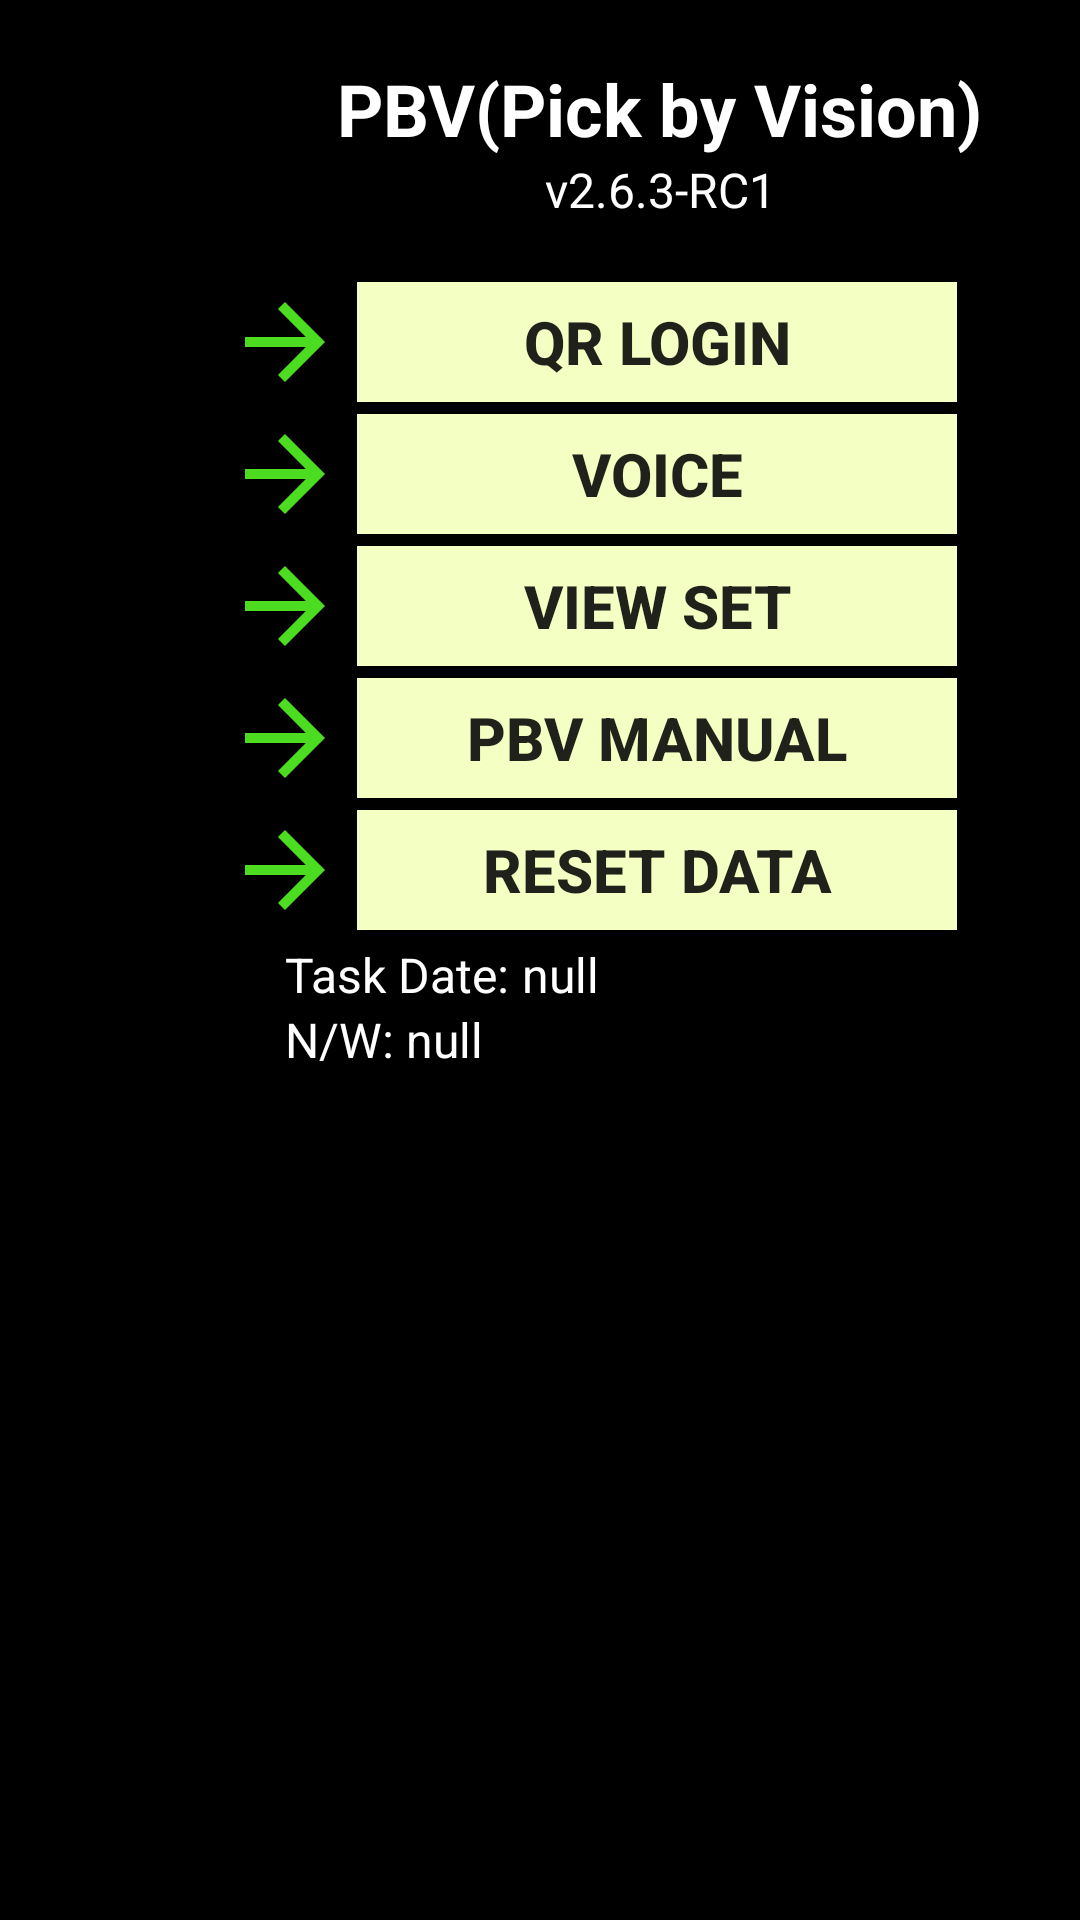

Icons on this 1080px x 1920px Android screen, each with its box as {"left": x1, "top": y1, "right": x2, "bottom": y2}:
arrow forward: {"left": 245, "top": 302, "right": 325, "bottom": 382}, {"left": 245, "top": 434, "right": 325, "bottom": 514}, {"left": 245, "top": 566, "right": 325, "bottom": 646}, {"left": 245, "top": 698, "right": 325, "bottom": 778}, {"left": 245, "top": 830, "right": 325, "bottom": 910}
